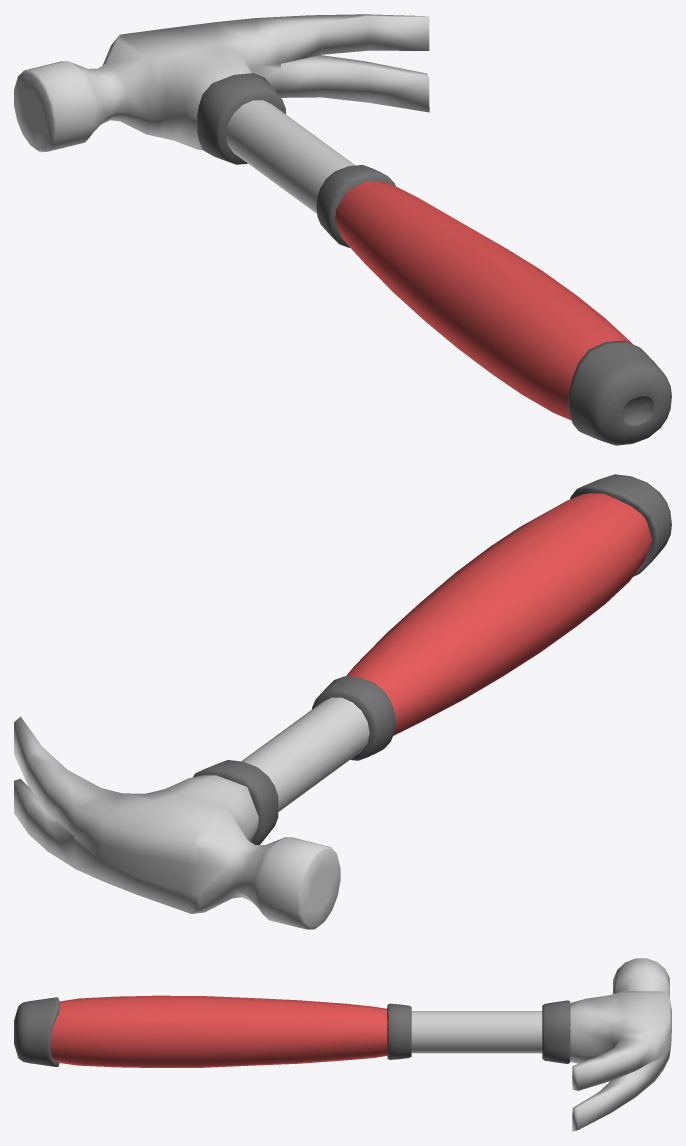
File: Coincraft_Hammer.fbx
3 renders of one model, top to bottom at view 1: azimuth 30°, elevation 25°; view 2: azimuth 150°, elevation 25°; view 3: azimuth 270°, elevation 25°, orthographic. The views are drawn at different scales.
Visible parts, largest first — view 1: Hammer; view 2: Hammer; view 3: Hammer.
Part boxes in pixels (box(x1,y1,x2,y2)): Hammer: box(14, 14, 671, 445); Hammer: box(14, 474, 671, 929); Hammer: box(14, 958, 671, 1131).
Bounding box in the file's own units: 41.75 × 11.02 × 100.
